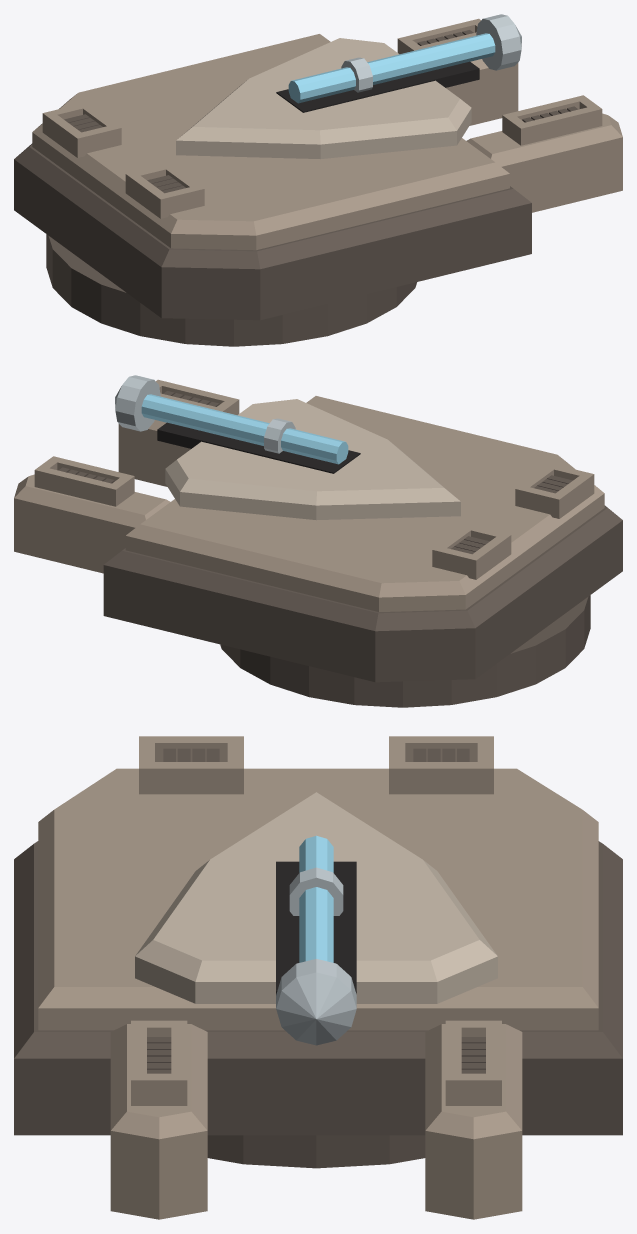
Rendered from vge_mgun_heavy_charge_annihilator.obj.
The picture shows the model from 3 angles, top to bottom: view 1: azimuth 30°, elevation 25°; view 2: azimuth 150°, elevation 25°; view 3: azimuth 270°, elevation 25°; orthographic projection. The views are drawn at different scales.
Parts seen in each view (by area): view 1: vge_mgun_heavy_charge_annihilator_4, vge_mgun_heavy_charge_annihilator_1, vge_mgun_heavy_charge_annihilator_6, vge_mgun_heavy_charge_annihilator_0, vge_mgun_heavy_charge_annihilator_2, vge_mgun_heavy_charge_annihilator_3, vge_mgun_heavy_charge_annihilator_8, vge_mgun_heavy_charge_annihilator_52, vge_mgun_heavy_charge_annihilator_5, vge_mgun_heavy_charge_annihilator_9, vge_mgun_heavy_charge_annihilator_30, vge_mgun_heavy_charge_annihilator_7 (+11 smaller); view 2: vge_mgun_heavy_charge_annihilator_4, vge_mgun_heavy_charge_annihilator_1, vge_mgun_heavy_charge_annihilator_6, vge_mgun_heavy_charge_annihilator_0, vge_mgun_heavy_charge_annihilator_2, vge_mgun_heavy_charge_annihilator_3, vge_mgun_heavy_charge_annihilator_30, vge_mgun_heavy_charge_annihilator_52, vge_mgun_heavy_charge_annihilator_5, vge_mgun_heavy_charge_annihilator_31, vge_mgun_heavy_charge_annihilator_8, vge_mgun_heavy_charge_annihilator_7 (+11 smaller); view 3: vge_mgun_heavy_charge_annihilator_4, vge_mgun_heavy_charge_annihilator_6, vge_mgun_heavy_charge_annihilator_1, vge_mgun_heavy_charge_annihilator_2, vge_mgun_heavy_charge_annihilator_3, vge_mgun_heavy_charge_annihilator_30, vge_mgun_heavy_charge_annihilator_8, vge_mgun_heavy_charge_annihilator_0, vge_mgun_heavy_charge_annihilator_5, vge_mgun_heavy_charge_annihilator_9, vge_mgun_heavy_charge_annihilator_31, vge_mgun_heavy_charge_annihilator_54 (+17 smaller).
Part boxes in pixels (box(x1,y1,x2,y2)): vge_mgun_heavy_charge_annihilator_4: box(32, 34, 509, 235); vge_mgun_heavy_charge_annihilator_1: box(14, 159, 531, 320); vge_mgun_heavy_charge_annihilator_6: box(176, 38, 471, 144); vge_mgun_heavy_charge_annihilator_0: box(46, 234, 416, 346); vge_mgun_heavy_charge_annihilator_2: box(14, 143, 531, 269); vge_mgun_heavy_charge_annihilator_3: box(32, 132, 509, 250); vge_mgun_heavy_charge_annihilator_8: box(502, 137, 622, 212); vge_mgun_heavy_charge_annihilator_52: box(288, 33, 495, 103); vge_mgun_heavy_charge_annihilator_5: box(176, 108, 471, 159); vge_mgun_heavy_charge_annihilator_9: box(466, 113, 622, 166); vge_mgun_heavy_charge_annihilator_30: box(446, 63, 518, 125); vge_mgun_heavy_charge_annihilator_7: box(276, 61, 479, 112); vge_mgun_heavy_charge_annihilator_4: box(126, 396, 604, 597); vge_mgun_heavy_charge_annihilator_1: box(103, 520, 622, 682); vge_mgun_heavy_charge_annihilator_6: box(165, 399, 460, 505); vge_mgun_heavy_charge_annihilator_0: box(220, 595, 590, 707); vge_mgun_heavy_charge_annihilator_2: box(104, 505, 622, 631); vge_mgun_heavy_charge_annihilator_3: box(125, 493, 604, 611); vge_mgun_heavy_charge_annihilator_30: box(14, 498, 134, 573); vge_mgun_heavy_charge_annihilator_52: box(141, 394, 348, 464); vge_mgun_heavy_charge_annihilator_5: box(165, 469, 460, 520); vge_mgun_heavy_charge_annihilator_31: box(14, 474, 170, 527); vge_mgun_heavy_charge_annihilator_8: box(118, 424, 190, 486); vge_mgun_heavy_charge_annihilator_7: box(157, 422, 360, 473); vge_mgun_heavy_charge_annihilator_4: box(38, 768, 598, 1008); vge_mgun_heavy_charge_annihilator_6: box(135, 792, 497, 981); vge_mgun_heavy_charge_annihilator_1: box(14, 1058, 622, 1135); vge_mgun_heavy_charge_annihilator_2: box(14, 841, 622, 1058); vge_mgun_heavy_charge_annihilator_3: box(38, 1008, 598, 1030); vge_mgun_heavy_charge_annihilator_30: box(425, 1131, 522, 1219); vge_mgun_heavy_charge_annihilator_8: box(110, 1131, 207, 1219); vge_mgun_heavy_charge_annihilator_0: box(207, 1135, 425, 1168); vge_mgun_heavy_charge_annihilator_5: box(135, 956, 497, 1003); vge_mgun_heavy_charge_annihilator_9: box(110, 1024, 207, 1139); vge_mgun_heavy_charge_annihilator_31: box(425, 1024, 522, 1139); vge_mgun_heavy_charge_annihilator_54: box(276, 959, 356, 1045).
Size of the model in its own units: 2.13 by 0.76 by 1.51.
